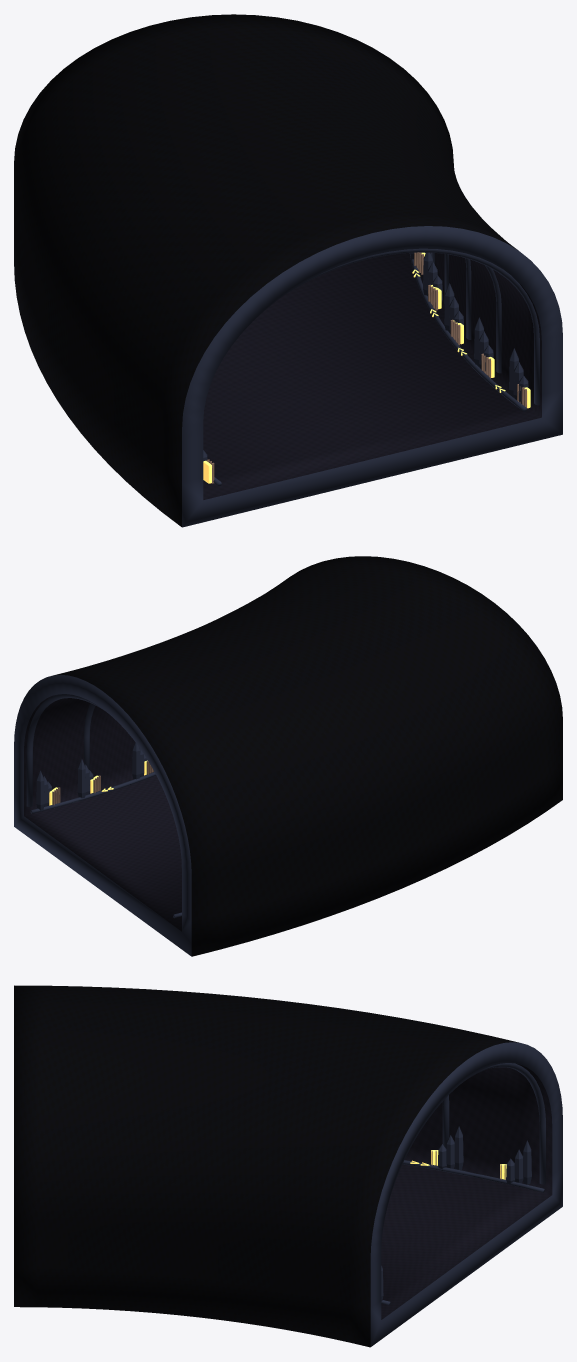
File: curve_right_30.glb
The picture shows the model from 3 angles, top to bottom: view 1: azimuth 30°, elevation 25°; view 2: azimuth 150°, elevation 25°; view 3: azimuth 270°, elevation 25°; orthographic projection. The views are drawn at different scales.
Parts seen in each view (by area): view 1: TunnelGeometry; view 2: TunnelGeometry; view 3: TunnelGeometry.
Part boxes in pixels (x1=…): TunnelGeometry: x1=14, y1=14, x2=562, y2=527; TunnelGeometry: x1=14, y1=556, x2=562, y2=956; TunnelGeometry: x1=14, y1=985, x2=562, y2=1347.
Bounding box in the file's own units: 19.1 × 9.52 × 21.83.
Materials: 5 (2 with a texture image).
